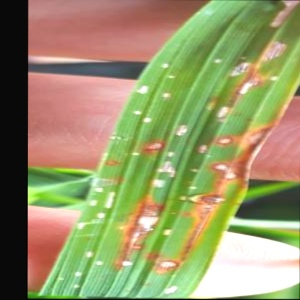Brown_Spot: (227, 119, 276, 188), (144, 237, 191, 283), (124, 199, 167, 247), (235, 69, 285, 107), (135, 133, 175, 166), (222, 48, 255, 87), (264, 0, 300, 30), (253, 39, 292, 63), (209, 125, 237, 154), (215, 95, 239, 127), (208, 148, 231, 178), (202, 182, 227, 208), (223, 162, 242, 188), (158, 218, 177, 242)
